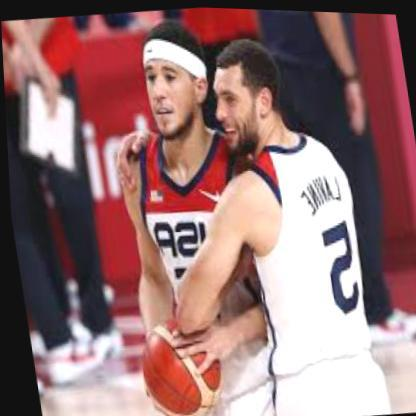basketball: (130, 311, 226, 416)
